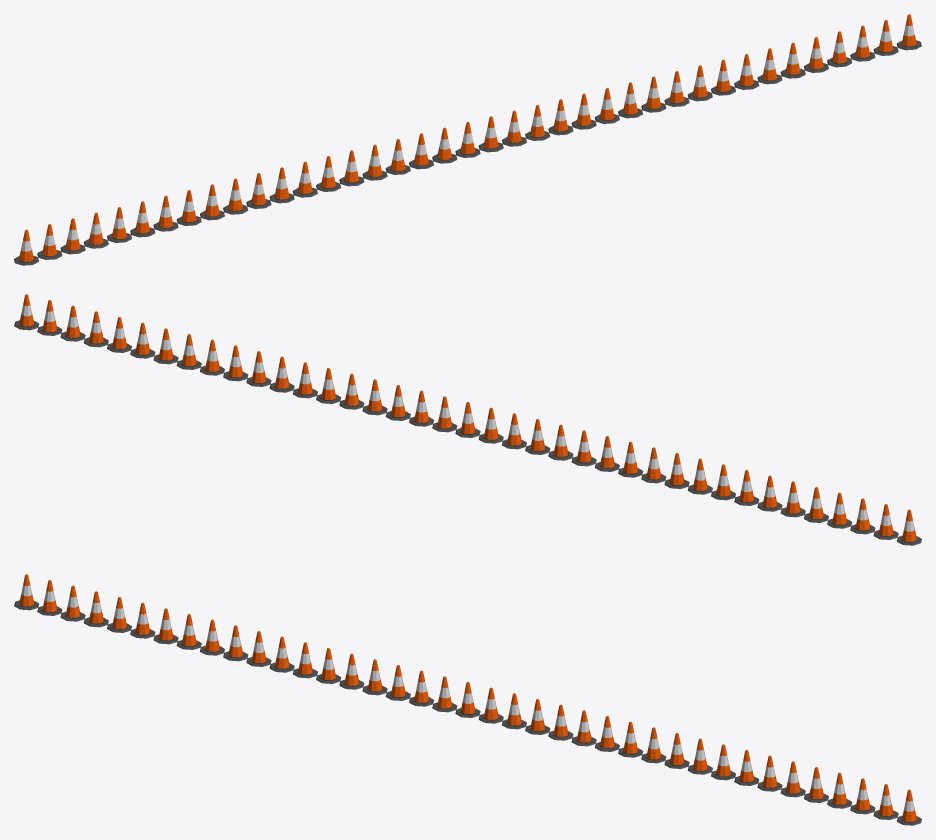
Rendered from cylinder.015_lev3.glb.
The picture shows the model from 3 angles, top to bottom: view 1: azimuth 30°, elevation 25°; view 2: azimuth 150°, elevation 25°; view 3: azimuth 330°, elevation 25°; orthographic projection.
Visible parts, largest first — view 1: cylinder.015_lev3; view 2: cylinder.015_lev3; view 3: cylinder.015_lev3.
Part boxes in pixels (box(x1,y1,x2,y2)): cylinder.015_lev3: box(14, 14, 921, 265); cylinder.015_lev3: box(14, 294, 921, 545); cylinder.015_lev3: box(14, 574, 921, 825).
Size of the model in its own units: 9.16 by 0.2928 by 0.2191.
